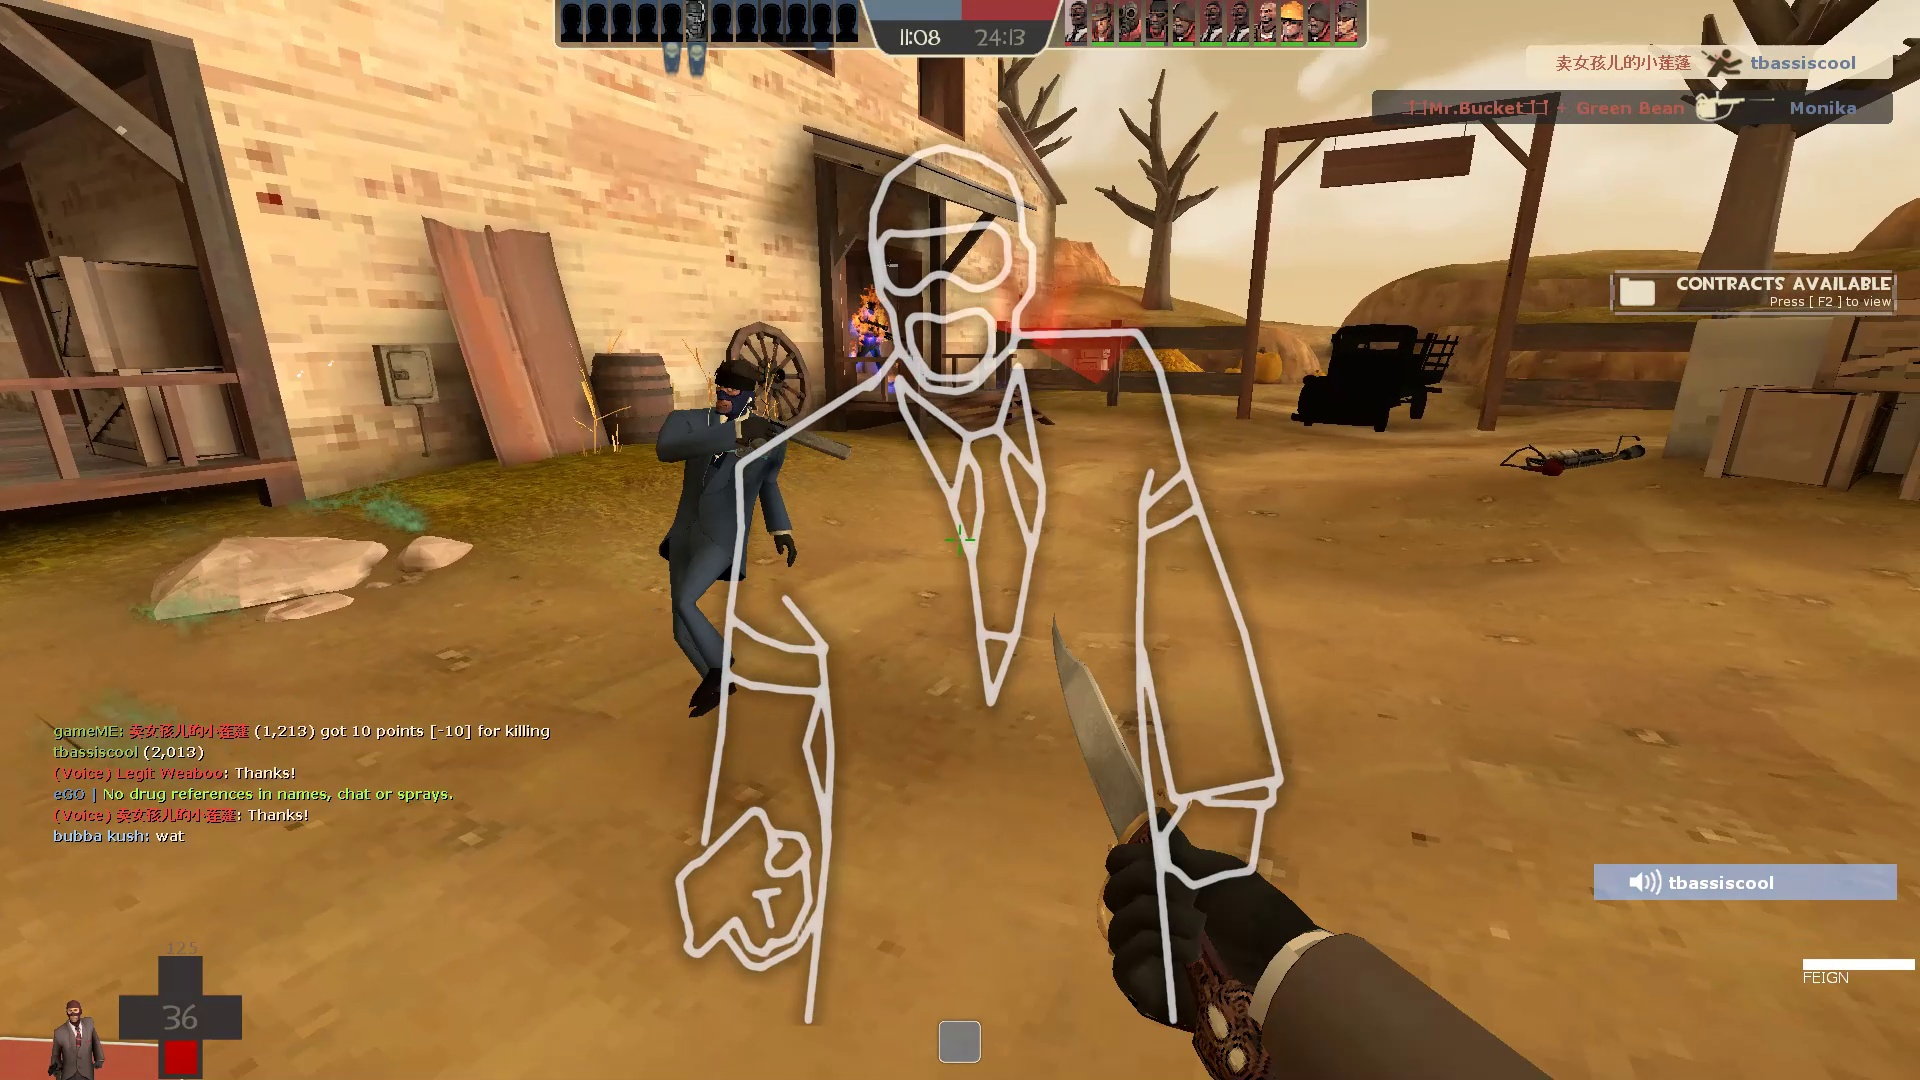blu_spy: (640, 344, 849, 729)
